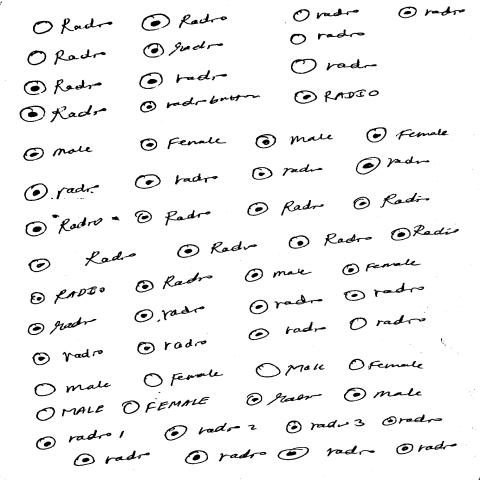Radio Button: (27, 248, 143, 274), (139, 94, 263, 113), (163, 423, 260, 443), (36, 431, 128, 451), (140, 13, 230, 33), (278, 446, 378, 463), (140, 71, 229, 90), (19, 105, 107, 124), (25, 216, 104, 237), (33, 17, 115, 37), (176, 240, 258, 260), (24, 182, 102, 203), (136, 273, 214, 294), (121, 397, 212, 415), (143, 40, 228, 59), (288, 233, 376, 251), (344, 283, 426, 302), (133, 172, 219, 190), (30, 286, 107, 306), (248, 323, 329, 342), (286, 417, 365, 436), (291, 58, 379, 75), (184, 449, 270, 466), (23, 79, 104, 97), (134, 209, 214, 227), (144, 371, 224, 389), (72, 451, 152, 469), (352, 193, 431, 211), (28, 316, 99, 336), (250, 296, 324, 315), (367, 127, 449, 144), (134, 305, 207, 324), (33, 348, 105, 367), (355, 157, 430, 175), (256, 133, 335, 150), (247, 200, 326, 217), (342, 260, 421, 277), (140, 137, 229, 152), (26, 50, 108, 66), (294, 90, 380, 105), (35, 380, 110, 397), (350, 315, 429, 331), (344, 387, 423, 403), (246, 392, 324, 408), (290, 30, 367, 46), (251, 165, 322, 182), (36, 405, 107, 422), (391, 225, 460, 242), (348, 358, 424, 373), (137, 340, 208, 356), (23, 146, 93, 162), (256, 363, 326, 379), (292, 8, 361, 23), (396, 441, 458, 456), (399, 6, 468, 19), (245, 269, 309, 283), (382, 416, 444, 428)
